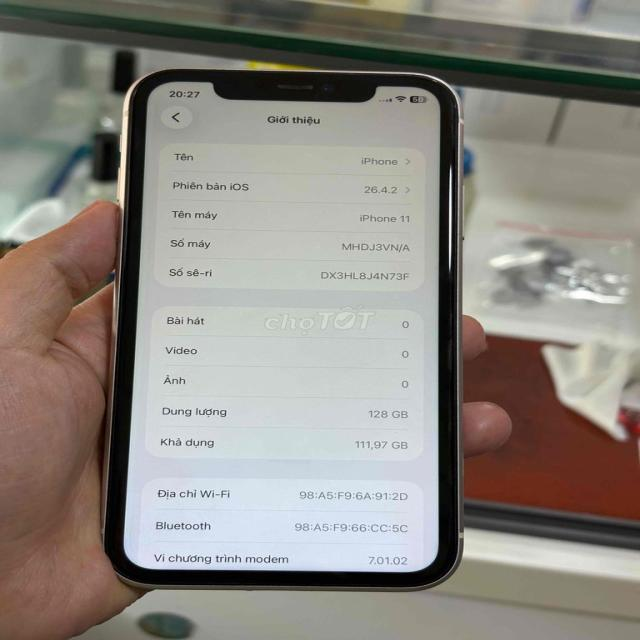gen_11: (100, 56, 472, 598)
